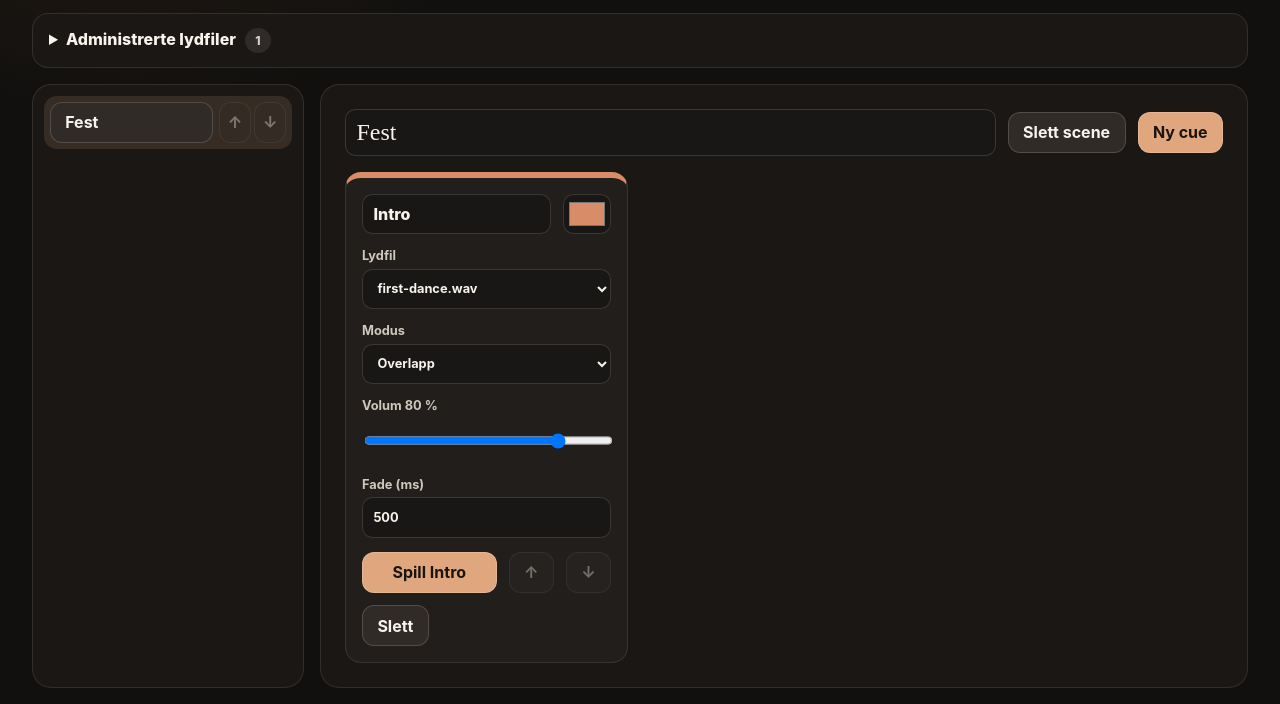
Test: shows recoverable command failures to the operator
(page scrolled)
Click the button "Spill Intro": (429, 572) [362,552,496,593]
(page scrolled)
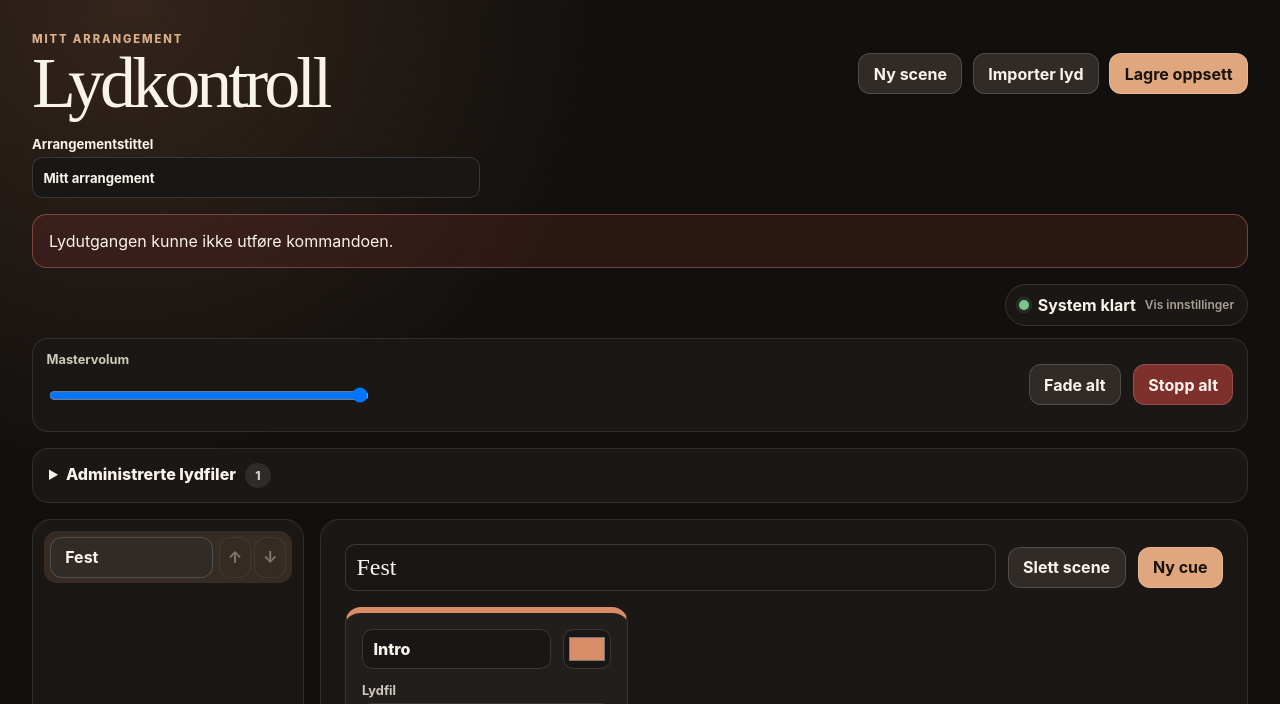
Now the text "Lydutgangen kunne ikke utføre kommandoen." is shown, box [49,231,393,251]
